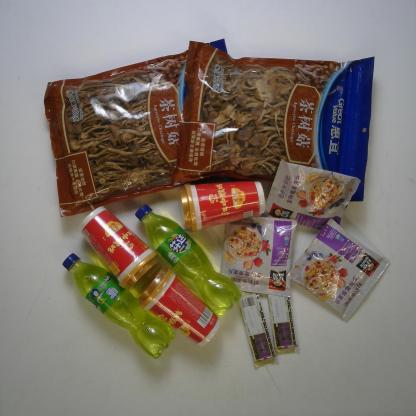Chocolate: (232, 288, 280, 370), (264, 291, 303, 360)
Dried Food: (40, 36, 246, 224), (169, 37, 382, 212)
Drink: (58, 249, 179, 363), (132, 202, 244, 319)
Instant Drink: (283, 216, 394, 324), (133, 262, 225, 349), (259, 157, 364, 233), (77, 203, 164, 293), (216, 214, 300, 300), (174, 176, 268, 235)
